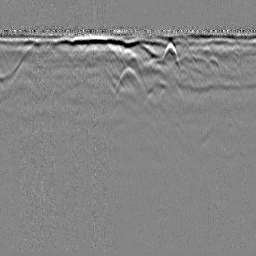cavity: (114, 64, 143, 94)
